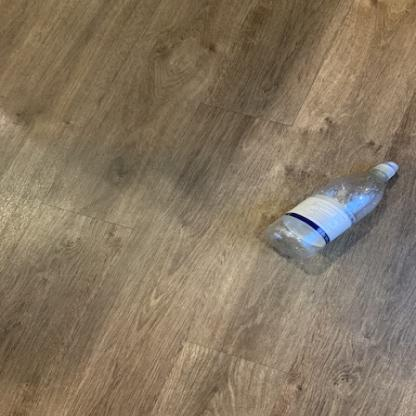trash: (264, 160, 401, 262)
